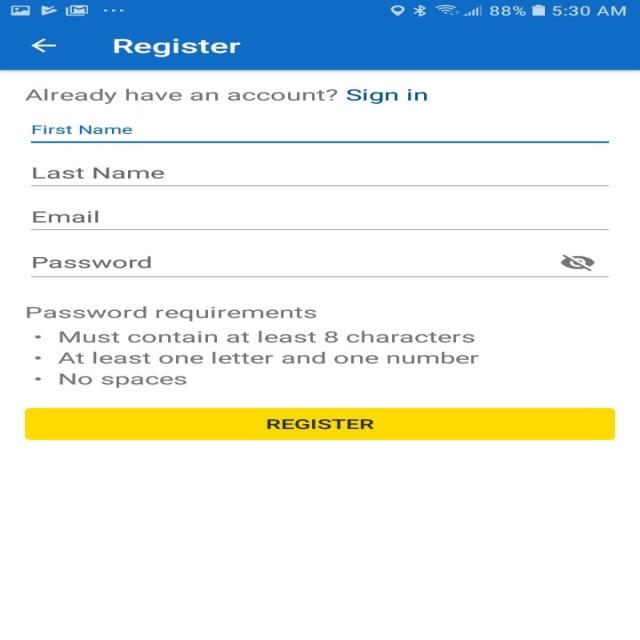EditText: (31, 254, 609, 277), (31, 210, 609, 230), (31, 167, 609, 187), (30, 125, 609, 143)
Icon: (559, 254, 595, 271), (30, 38, 57, 53)
Text: (24, 88, 427, 104), (56, 351, 478, 364), (58, 330, 474, 343), (26, 306, 316, 322), (113, 38, 241, 58), (58, 372, 186, 388), (32, 166, 165, 178), (33, 256, 151, 268), (31, 125, 132, 134), (32, 210, 99, 223)
TextButton: (25, 408, 615, 440)
